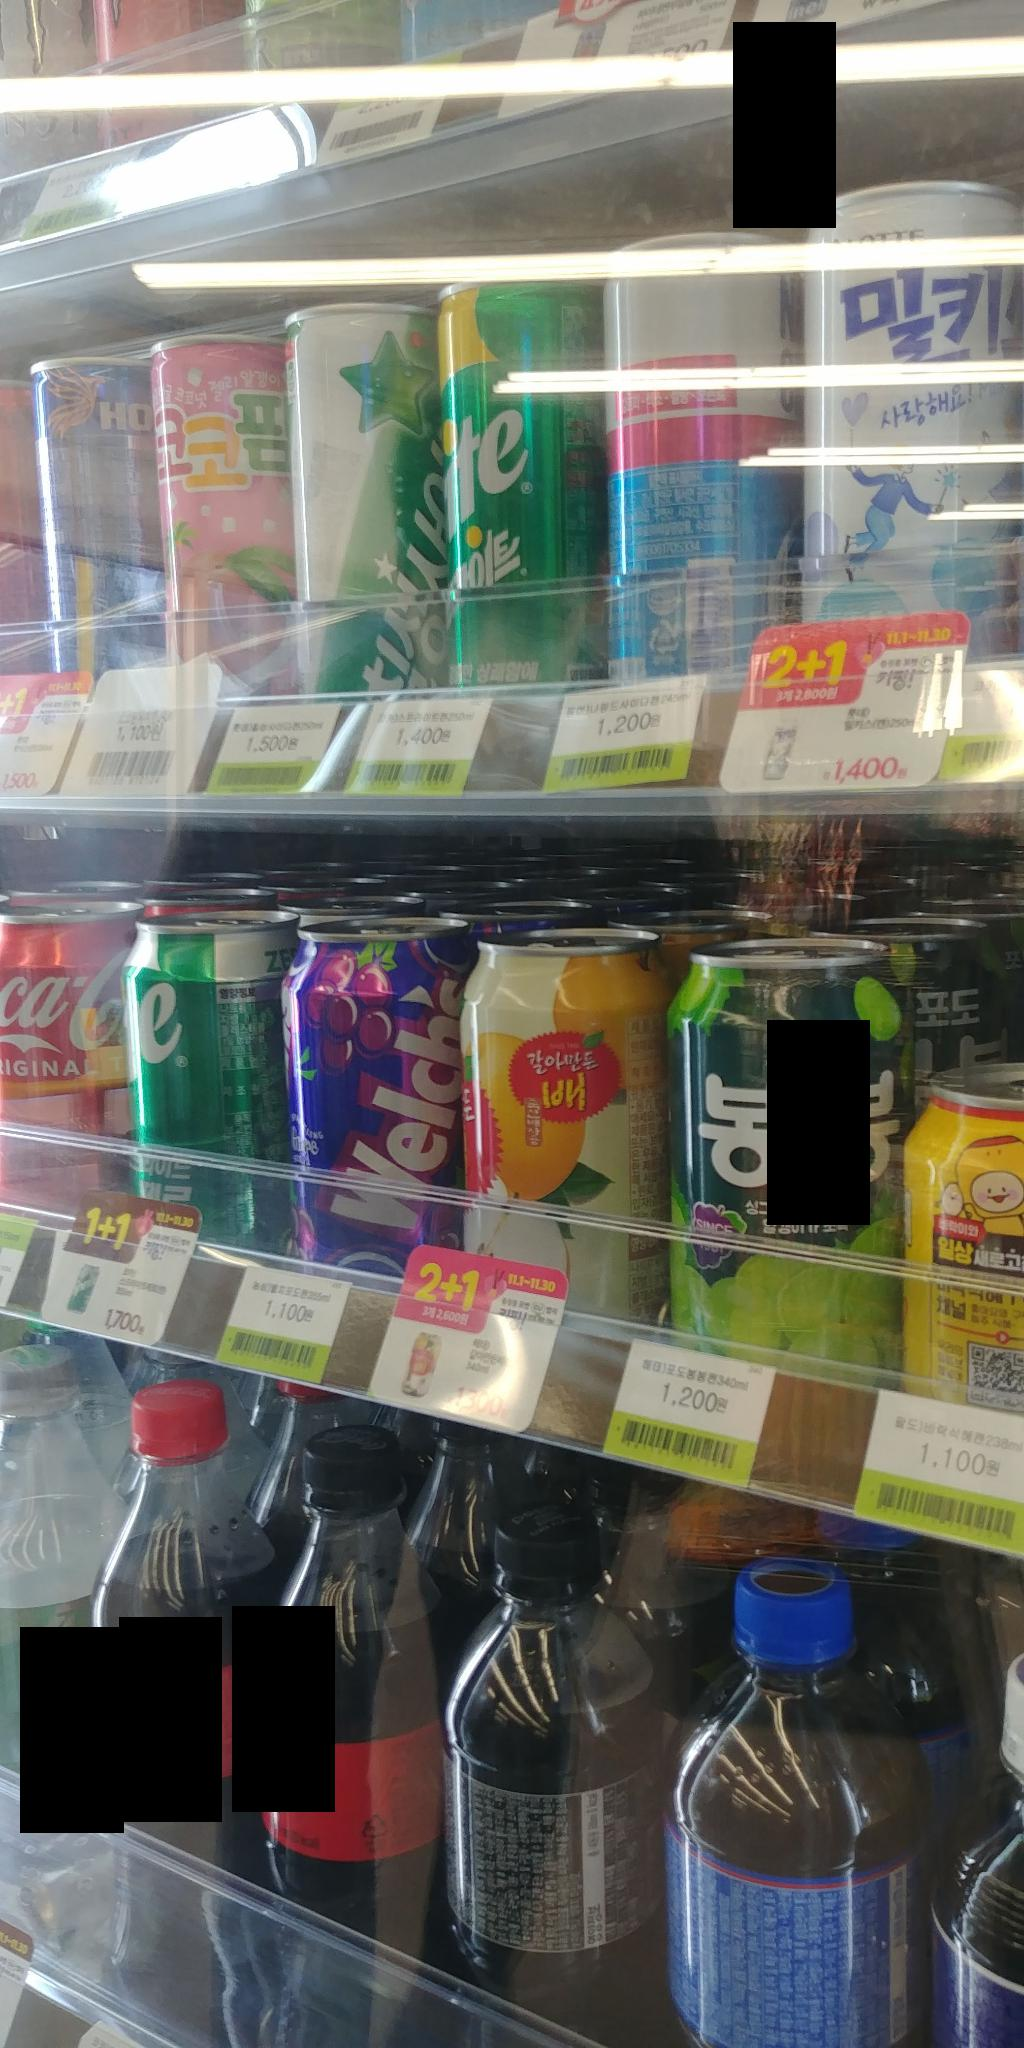narangdcider: (589, 221, 807, 680)
welchs_grape: (283, 886, 468, 1283)
